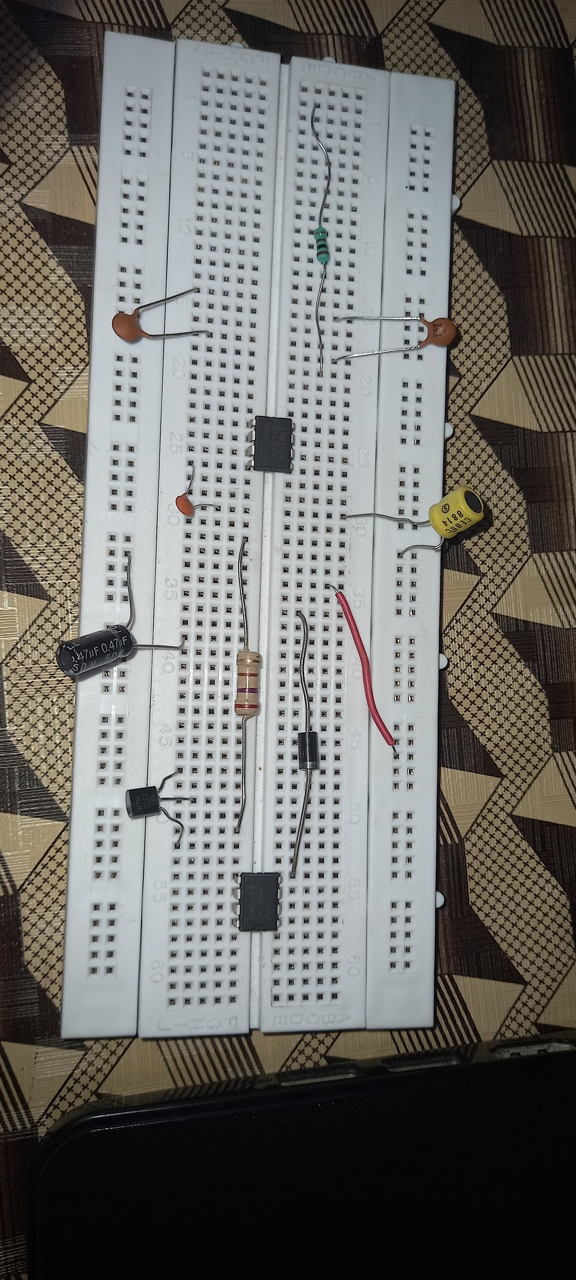capacitor: (429, 484, 487, 540), (109, 311, 147, 348), (426, 313, 459, 349), (172, 492, 197, 516)
resistor: (233, 647, 264, 719), (312, 225, 332, 265)
